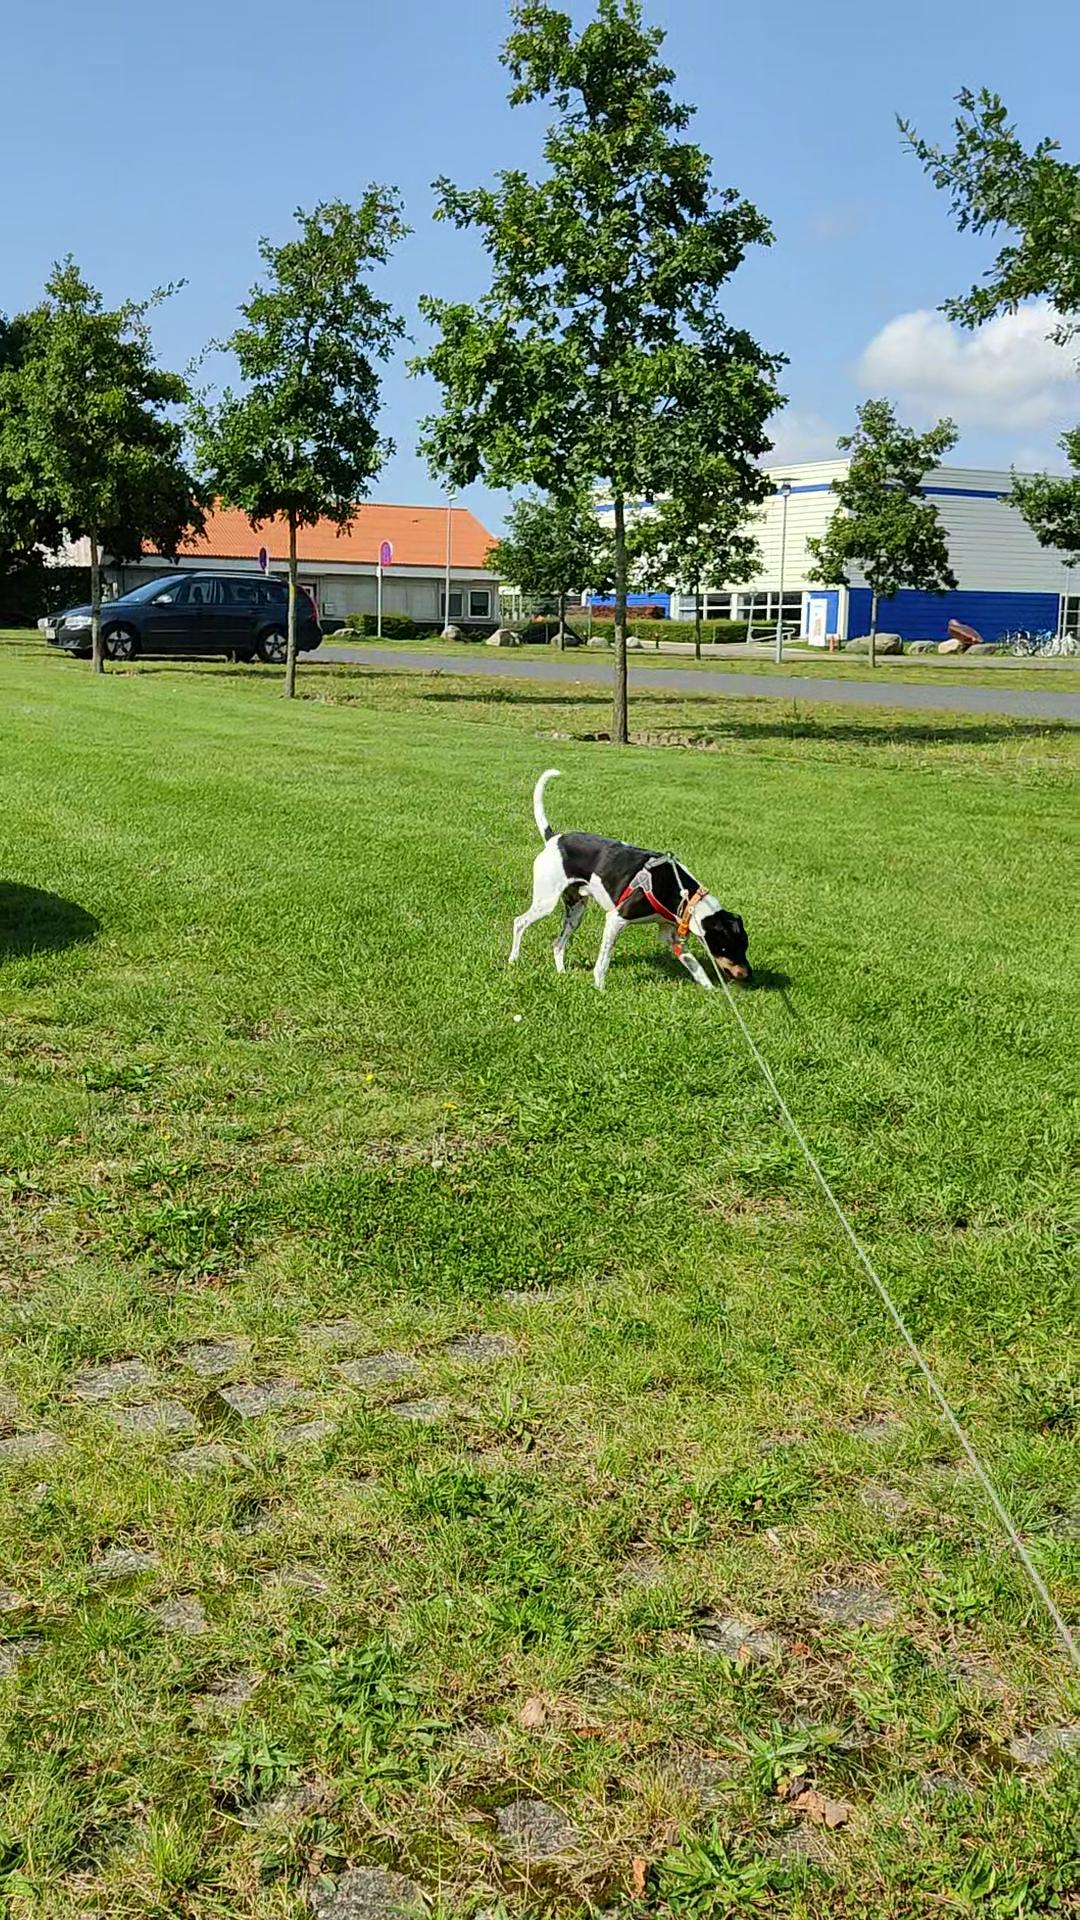Dog: (506, 767, 754, 992)
